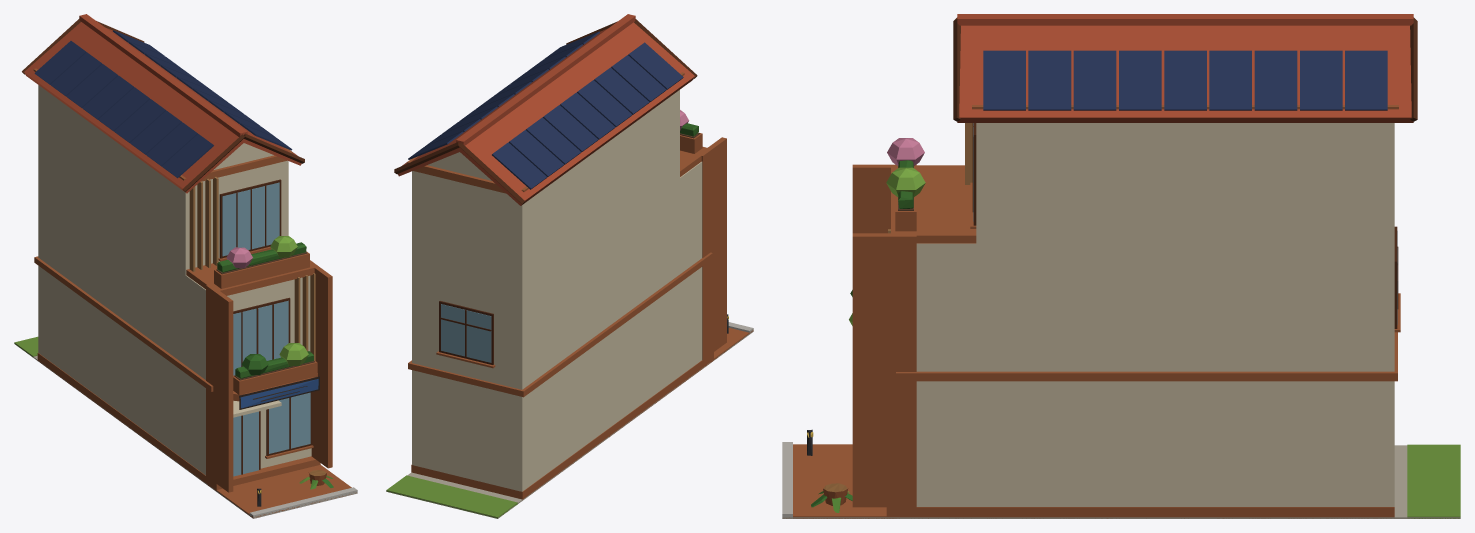
The model's file is bay1_mid.glb.
The picture shows the model from 3 angles, left to right: view 1: azimuth 30°, elevation 25°; view 2: azimuth 150°, elevation 25°; view 3: azimuth 270°, elevation 25°; orthographic projection. The views are drawn at different scales.
Parts seen in each view (by area): view 1: body; view 2: body; view 3: body.
Boxes of the visible parts, bbox=[...] form: body: bbox=[14, 14, 357, 518]; body: bbox=[386, 14, 753, 518]; body: bbox=[782, 14, 1460, 518].
Bounding box in the file's own units: 4.7 × 12.08 × 15.9.
